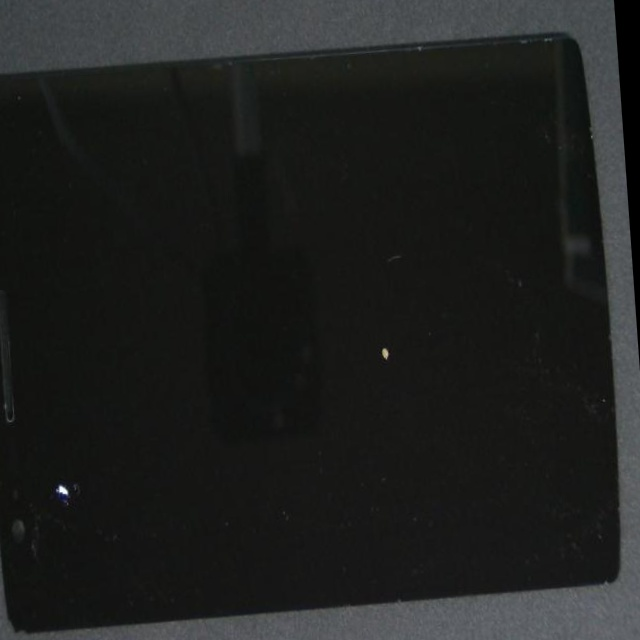stain: (111, 204, 623, 601), (0, 298, 141, 640)
